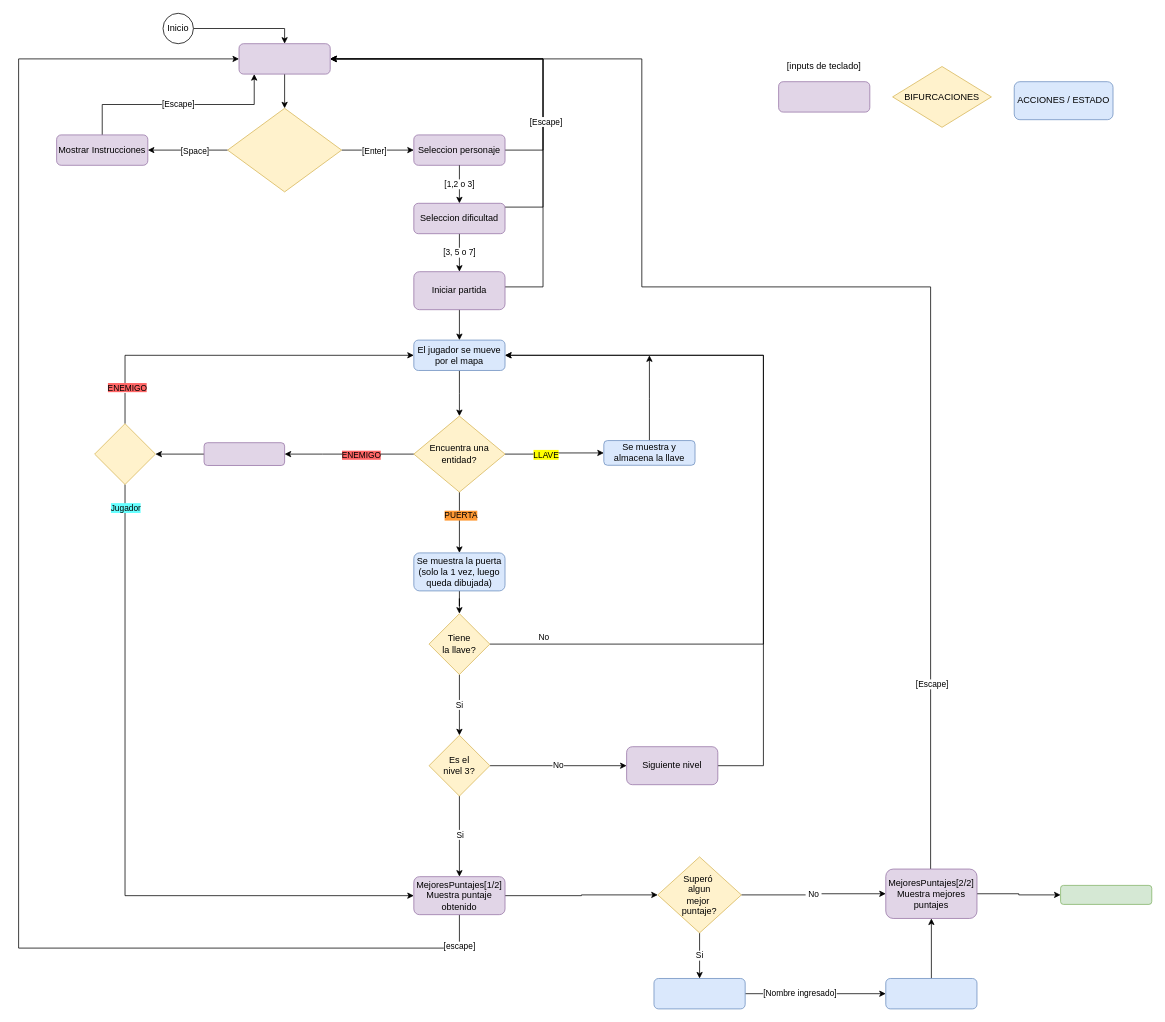
Image size: 1165x1022. Some labels were removed from this diagram. Here are the shapes that lost their labels. From the top down, the box of each, then its label:
(238, 43, 330, 74): Menu principal
(778, 81, 870, 112): ESCENAS
(227, 108, 342, 192): Iniciar partida o Instrucciones?
(94, 423, 155, 484): Quien muere?
(203, 442, 285, 466): Inicia combate
(1060, 885, 1152, 904): Fin del juego
(653, 978, 745, 1009): Solicita ingresar nombre
(885, 978, 977, 1009): Guarda nuevo puntaje
